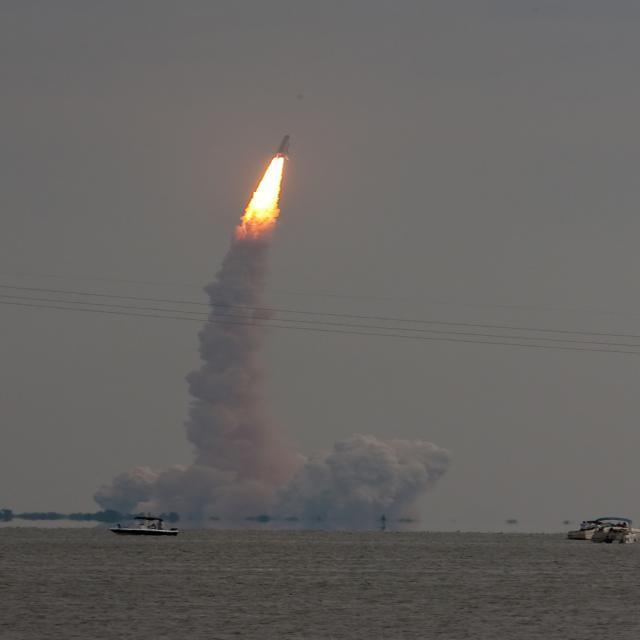missile: (274, 132, 293, 160)
